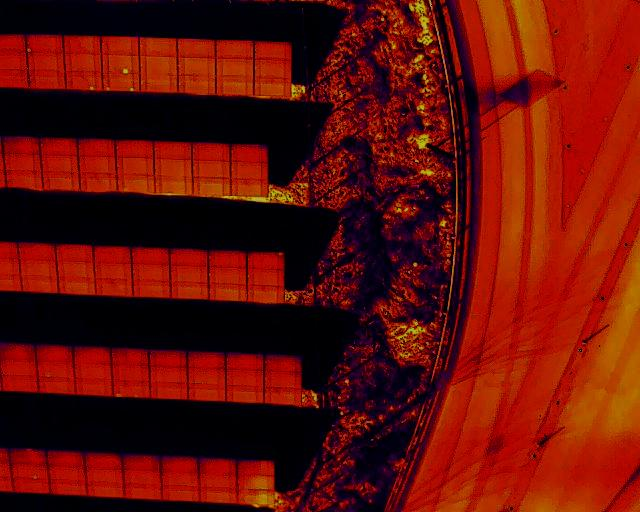Cell: (102, 54, 140, 74), (65, 72, 102, 91), (26, 34, 64, 52), (247, 251, 285, 269), (11, 466, 49, 480), (36, 362, 74, 376)
Cell-Multi: (102, 75, 140, 92), (113, 381, 150, 398)
No-Anomaly: (254, 41, 292, 61), (139, 37, 177, 57), (178, 38, 216, 58), (216, 39, 254, 58), (78, 156, 116, 175), (192, 142, 229, 161), (153, 141, 192, 159), (116, 158, 155, 176), (209, 250, 248, 268), (40, 137, 78, 155), (154, 159, 192, 177), (30, 70, 66, 89), (230, 145, 268, 163), (216, 77, 254, 95), (192, 160, 230, 178), (140, 58, 178, 76), (188, 383, 226, 401), (101, 36, 139, 54), (94, 245, 132, 263), (178, 76, 215, 94), (5, 171, 42, 189), (65, 54, 102, 72), (65, 35, 102, 53), (116, 141, 154, 158), (215, 59, 253, 76), (35, 346, 73, 363), (95, 279, 133, 296), (131, 246, 169, 263), (170, 266, 208, 283), (0, 376, 38, 393), (247, 286, 285, 303), (170, 249, 208, 266), (2, 136, 39, 153), (28, 53, 65, 70), (178, 59, 215, 76), (78, 139, 115, 156), (254, 61, 291, 78), (254, 79, 291, 96), (41, 155, 78, 172), (56, 244, 93, 261), (247, 269, 284, 286), (86, 453, 123, 470), (264, 356, 301, 373), (20, 243, 57, 260), (43, 173, 79, 190), (231, 179, 267, 196), (22, 276, 58, 293), (79, 175, 117, 191), (200, 458, 238, 474), (74, 348, 112, 364), (226, 354, 264, 370), (75, 379, 113, 395), (9, 450, 47, 466), (149, 350, 187, 366), (209, 284, 247, 300), (57, 261, 95, 277), (0, 344, 35, 361), (140, 76, 177, 92), (21, 260, 58, 276), (58, 278, 95, 294), (75, 364, 112, 380), (38, 377, 75, 393), (112, 349, 149, 365), (133, 264, 170, 280), (150, 381, 187, 397), (264, 389, 301, 405), (95, 263, 132, 279), (171, 283, 208, 299), (236, 475, 275, 490), (4, 154, 40, 170), (193, 179, 229, 195), (117, 177, 155, 192), (200, 488, 238, 503), (231, 163, 269, 178), (155, 178, 193, 193), (226, 370, 264, 385), (226, 386, 264, 401), (47, 451, 85, 466), (161, 456, 199, 471), (49, 467, 87, 482), (188, 368, 226, 383), (208, 268, 246, 283), (162, 486, 199, 501), (150, 367, 187, 382), (133, 281, 170, 296), (238, 459, 275, 474), (112, 365, 149, 380), (264, 373, 301, 388), (188, 353, 225, 368), (124, 456, 160, 471), (88, 484, 126, 498), (162, 472, 200, 486), (87, 469, 125, 483), (0, 69, 29, 87), (12, 480, 52, 493), (125, 471, 162, 485), (0, 362, 37, 376), (124, 486, 162, 499), (0, 52, 27, 70), (52, 482, 88, 495), (238, 491, 274, 504), (0, 35, 26, 52), (201, 475, 237, 487)
